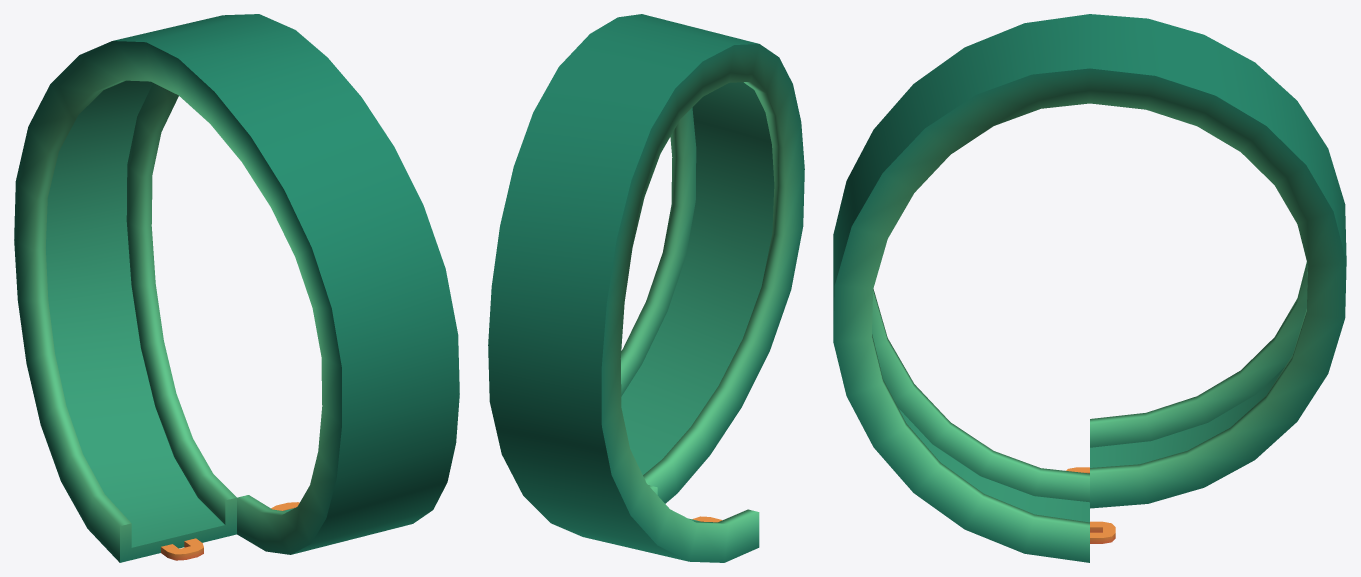
The model's file is track-narrow-looping.fbx.
The picture shows the model from 3 angles, left to right: view 1: azimuth 30°, elevation 25°; view 2: azimuth 150°, elevation 25°; view 3: azimuth 270°, elevation 25°; orthographic projection. The views are drawn at different scales.
Visible parts, largest first — view 1: track-narrow-looping; view 2: track-narrow-looping; view 3: track-narrow-looping.
Boxes of the visible parts, box(x1,y1,x2,y2) form: track-narrow-looping: box(14, 14, 459, 562); track-narrow-looping: box(488, 14, 804, 562); track-narrow-looping: box(833, 14, 1346, 562).
Bounding box in the file's own units: 200 × 400 × 398.
